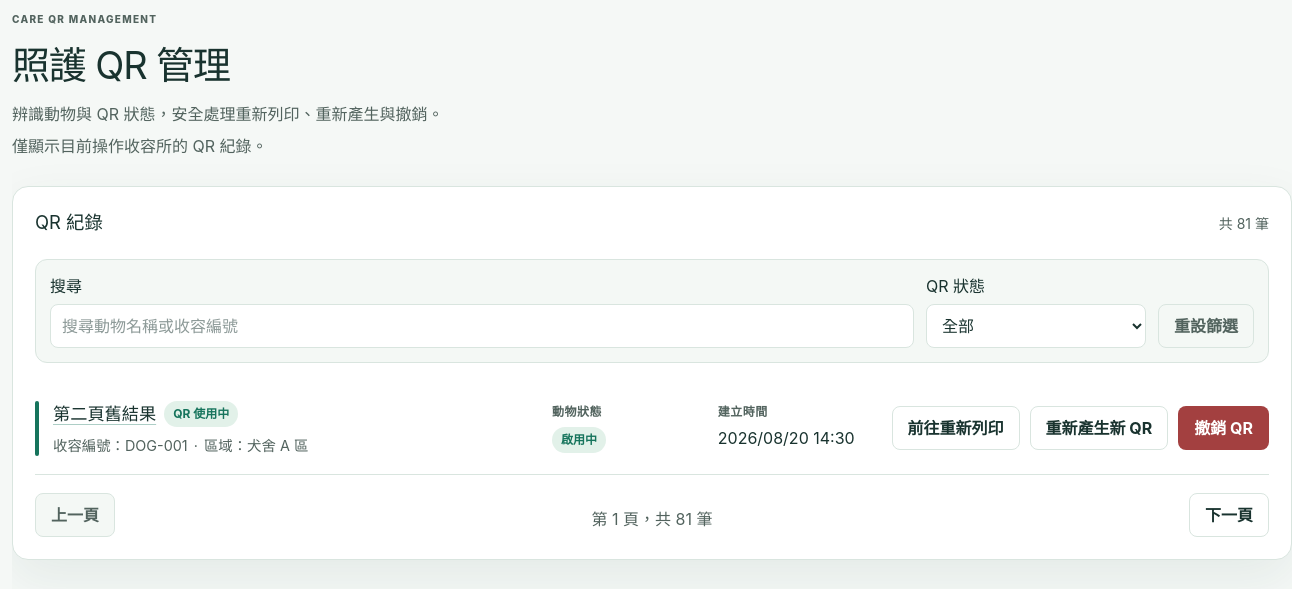
animal-aware care QR management list › reconciles an overlarge page to the last page when total remains positive
Click the button "下一頁" at [1229, 515], box [1189, 493, 1269, 537]
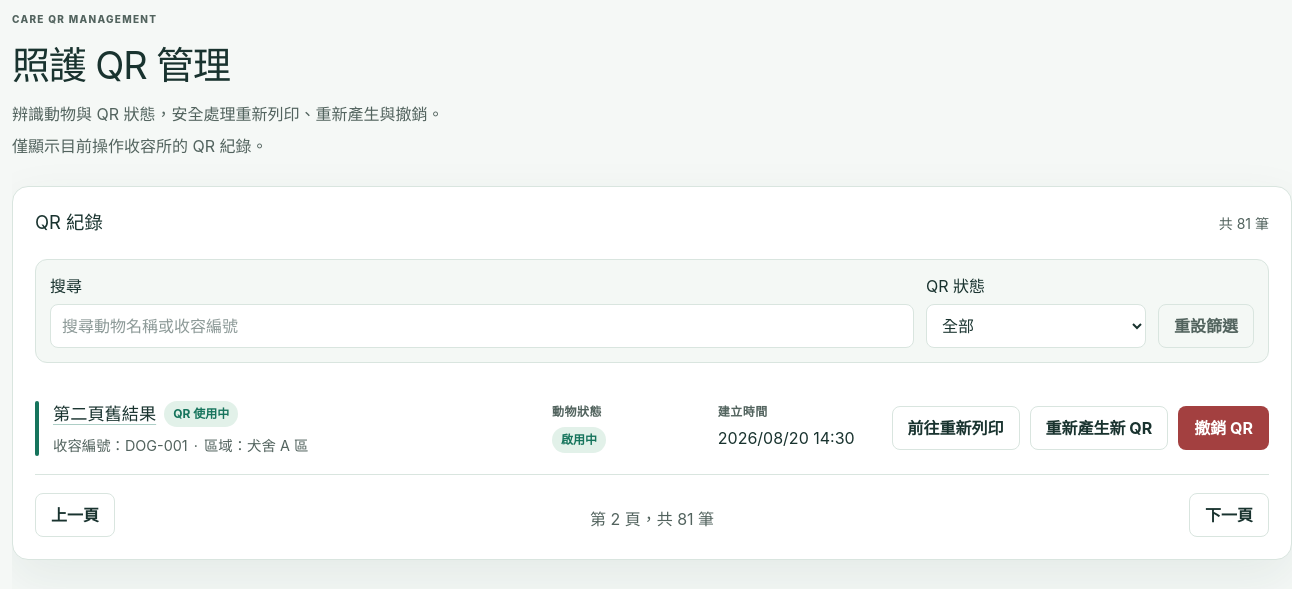
Click the button "下一頁" at [1229, 515], box [1189, 493, 1269, 537]
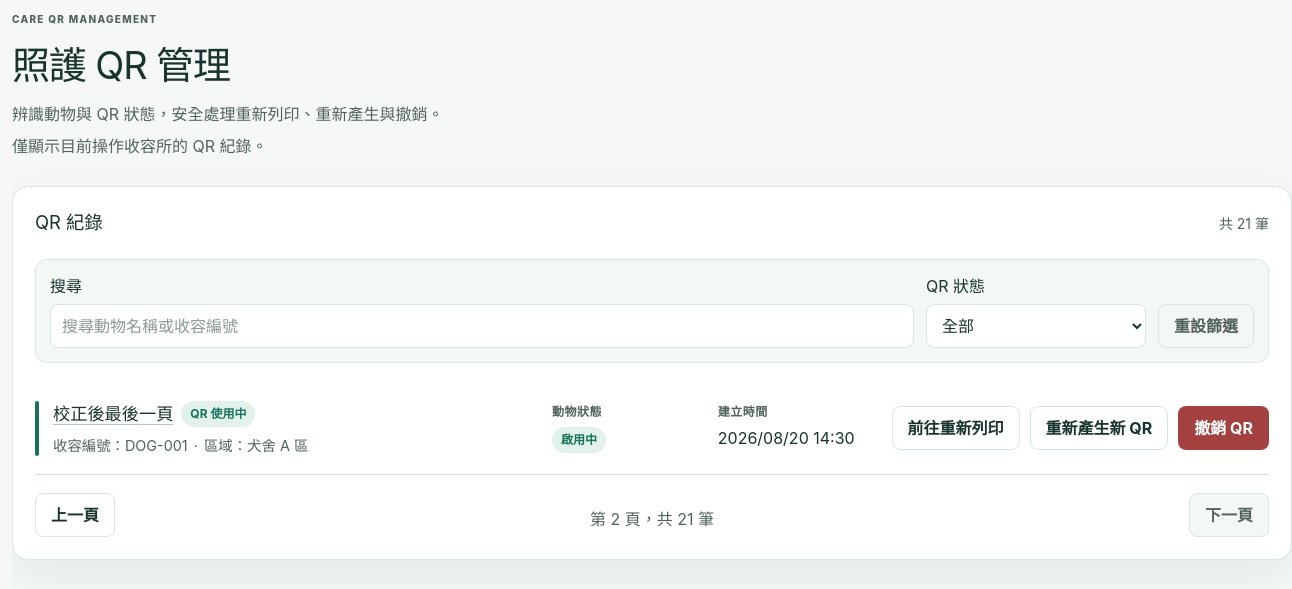
Expected: the list item is shown, [35, 381, 1269, 456]
Expected: the text "第 2 頁，共 21 筆" is shown, [590, 507, 714, 531]
